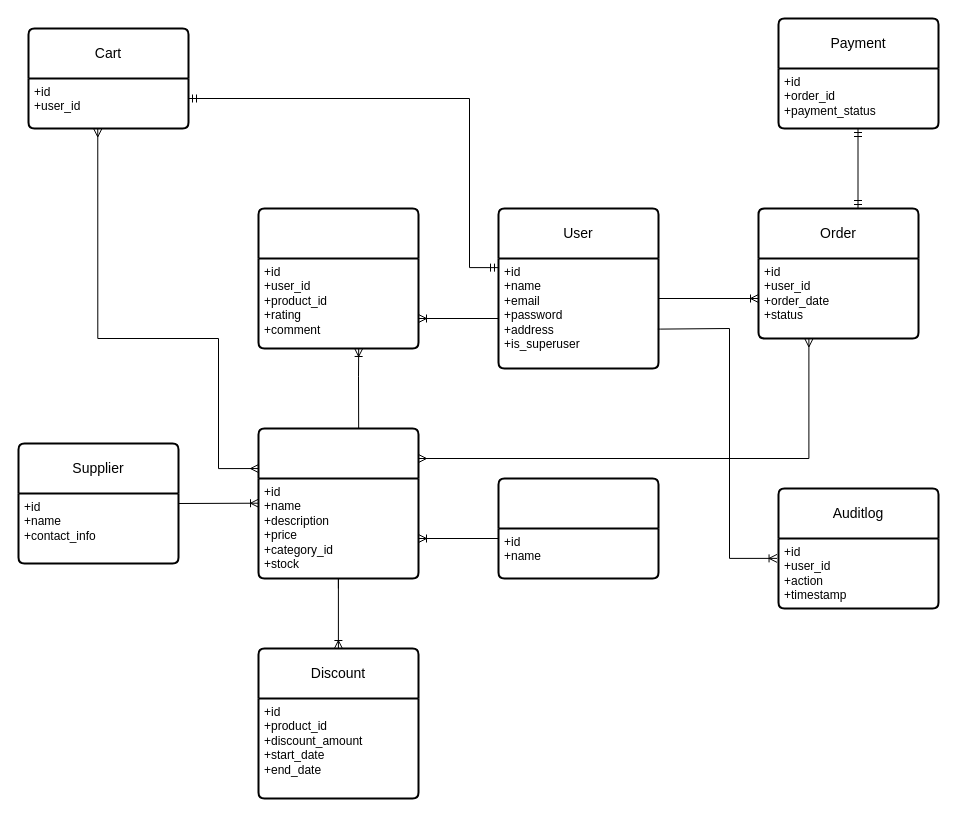
The diagram is 956 pixels wide and 816 high, and some of its shapes have lost their labels. The box of each missing label's shape, as (x1, y1, x2, y2) in pixels:
Category: (497, 477, 659, 579)
Product: (257, 427, 419, 579)
Review: (257, 207, 419, 349)
